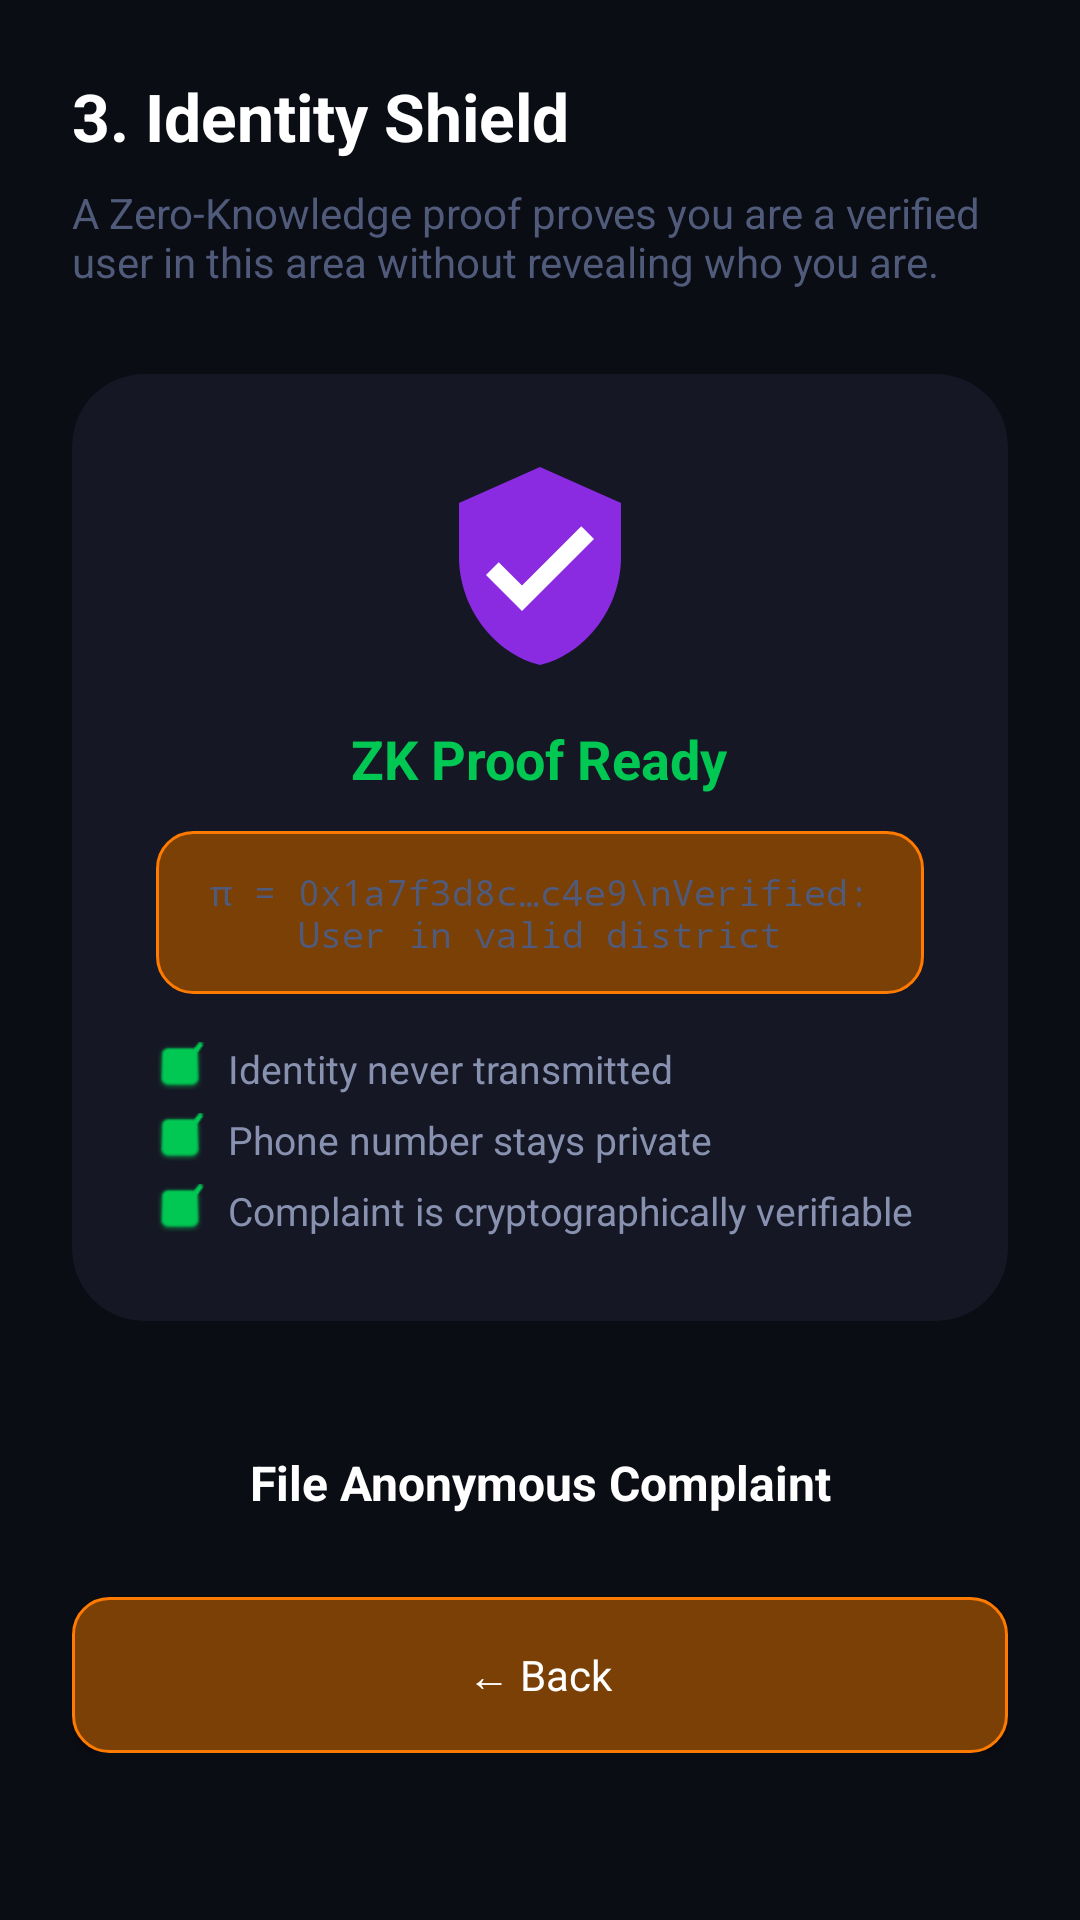

Icons on this 1080w x 1920h Android screen, each with its box as (x1, y1, x2, y2):
ZK Shield: (459, 467, 621, 665)
